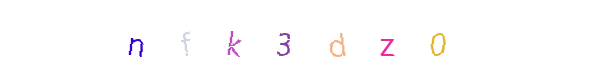0: (397, 0, 477, 80)
3: (262, 0, 342, 80)
D: (268, 0, 348, 80)
F: (208, 0, 288, 80)
K: (215, 0, 295, 80)
N: (95, 0, 175, 80)
Z: (319, 0, 399, 80)
